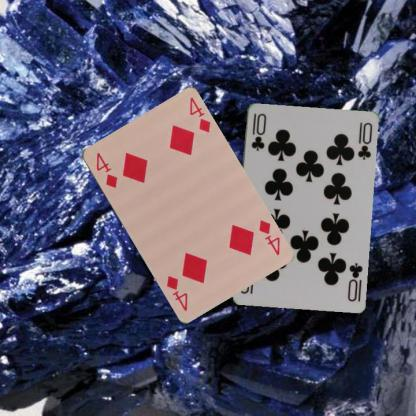10c: (344, 259, 364, 303), (249, 110, 268, 152)
4d: (256, 216, 282, 257), (93, 150, 118, 190)
